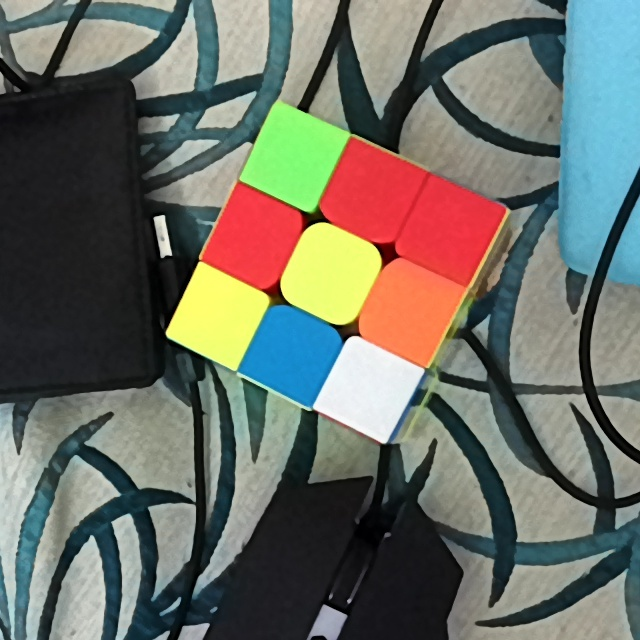tile: (299, 240, 361, 304), (377, 279, 440, 341), (419, 199, 480, 261), (341, 160, 400, 223), (339, 357, 395, 420), (191, 286, 250, 345), (262, 133, 322, 191), (263, 325, 323, 383), (224, 210, 279, 265)
